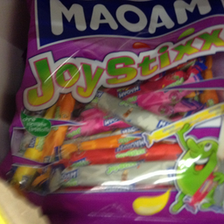candy: (24, 3, 224, 209)
